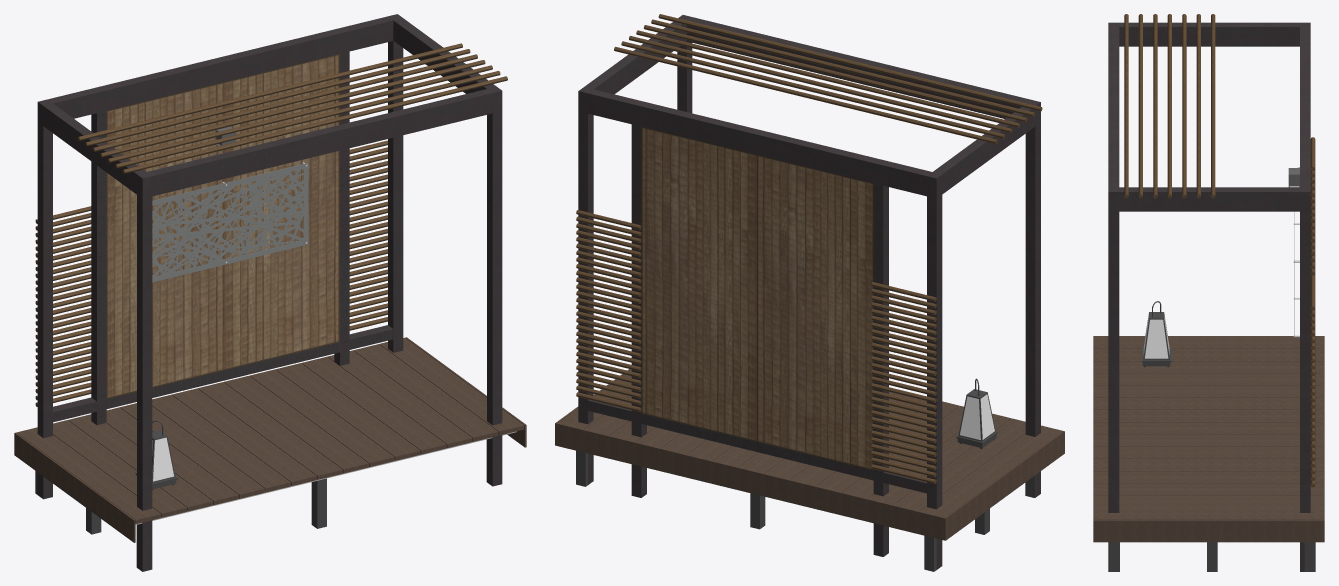
The model's file is fp12_naguri.fbx.
The picture shows the model from 3 angles, left to right: view 1: azimuth 30°, elevation 25°; view 2: azimuth 150°, elevation 25°; view 3: azimuth 270°, elevation 25°; orthographic projection. The views are drawn at different scales.
Visible parts, largest first — view 1: fp12_naguriファニチャーなし.001; view 2: fp12_naguriファニチャーなし.001; view 3: fp12_naguriファニチャーなし.001.
Boxes of the visible parts, left/top/right/bottom form: fp12_naguriファニチャーなし.001: left=14, top=14, right=526, bottom=571; fp12_naguriファニチャーなし.001: left=555, top=14, right=1064, bottom=571; fp12_naguriファニチャーなし.001: left=1093, top=14, right=1324, bottom=571.
Bounding box in the file's own units: 303 × 293 × 160.
13 materials, 6 textured.
